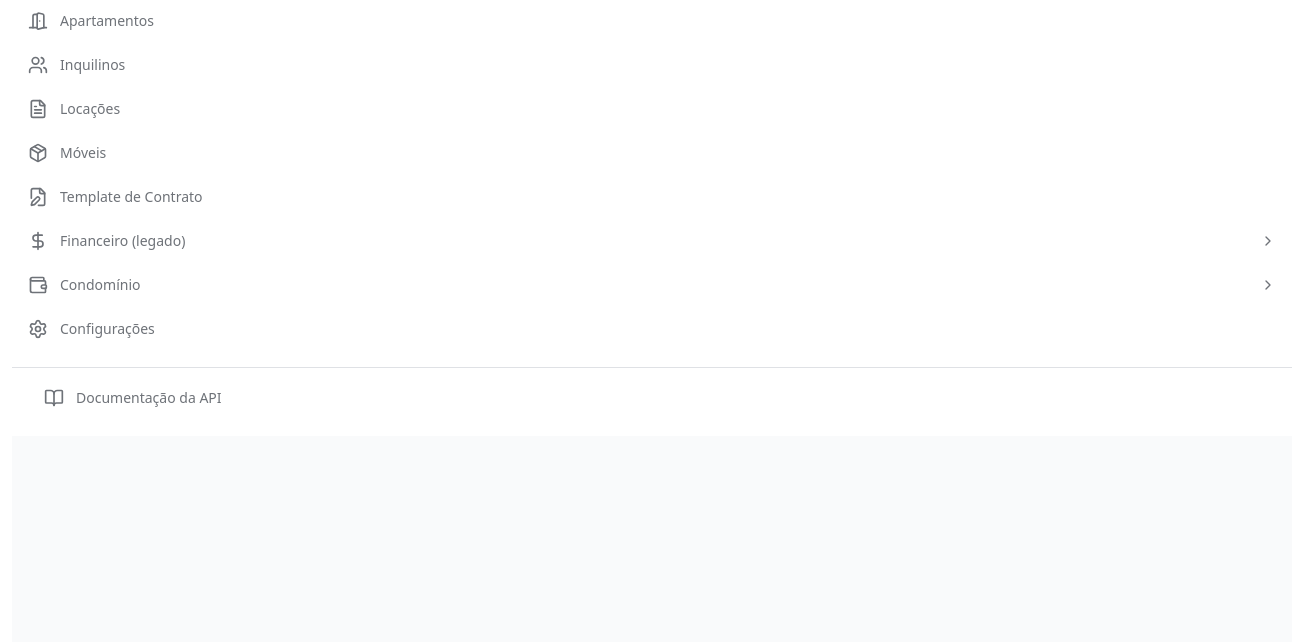
Test: Sidebar › lists "Virada de Mês" under the legacy financial group
This screenshot has width=1304, height=642.
Click the button "Financeiro (legado)" at (123, 240), box 12,219 -> 1292,263
(page scrolled)
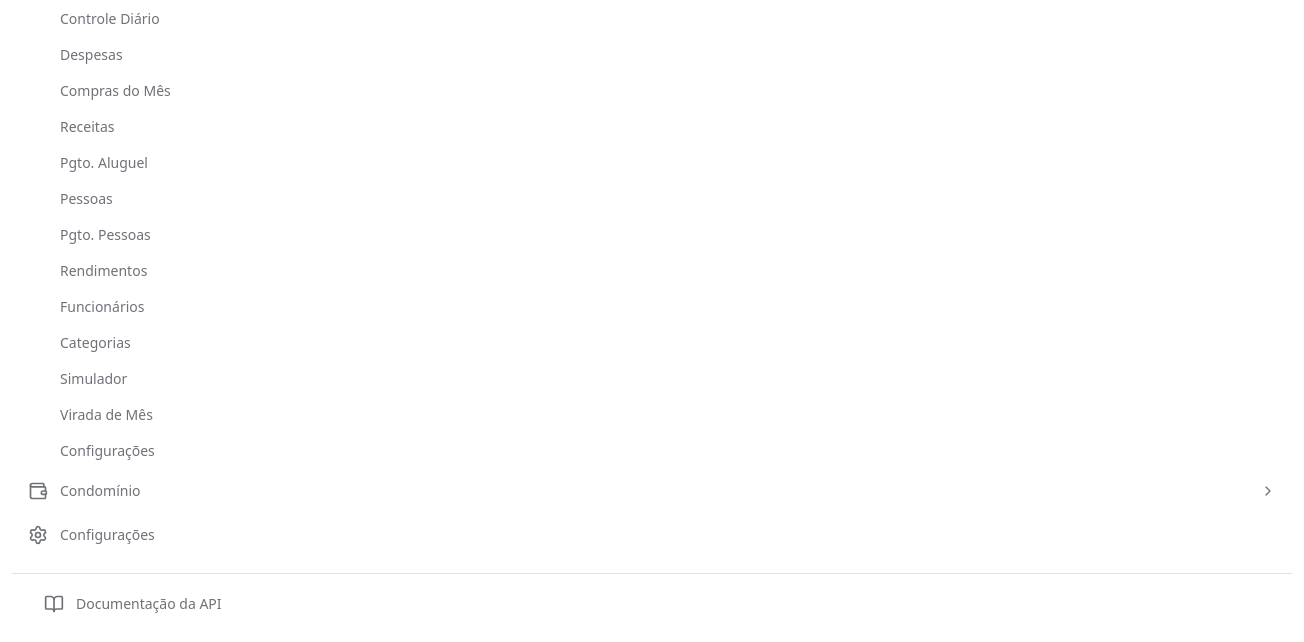
Now the button "Virada de Mês" is shown, box 12,397 -> 1292,433
